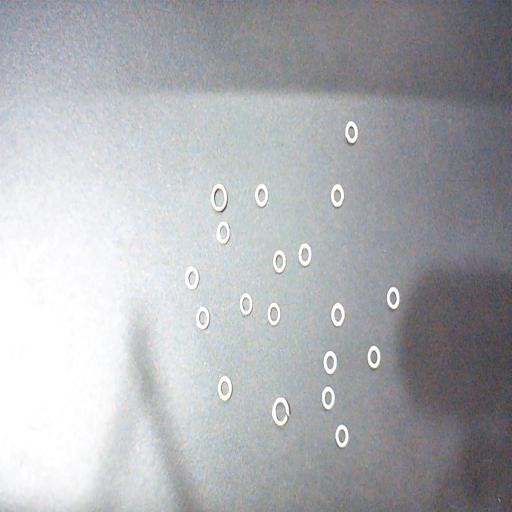washer: (271, 396, 290, 428), (210, 183, 228, 213), (217, 376, 233, 402), (335, 423, 349, 448), (195, 306, 210, 329), (184, 266, 199, 289), (215, 221, 230, 244), (344, 120, 358, 144), (330, 183, 344, 207), (386, 286, 400, 310), (366, 345, 380, 369), (330, 302, 344, 326), (239, 292, 253, 316), (254, 183, 268, 207), (298, 242, 311, 267), (266, 302, 280, 325), (272, 250, 286, 273), (322, 386, 335, 410), (323, 351, 336, 374)
